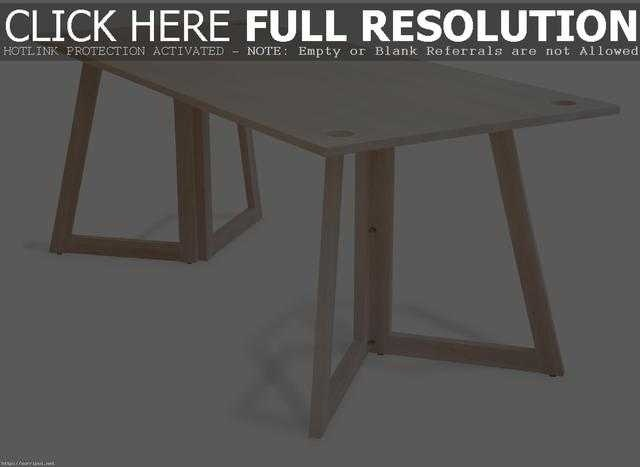obstacle: (50, 62, 618, 435)
